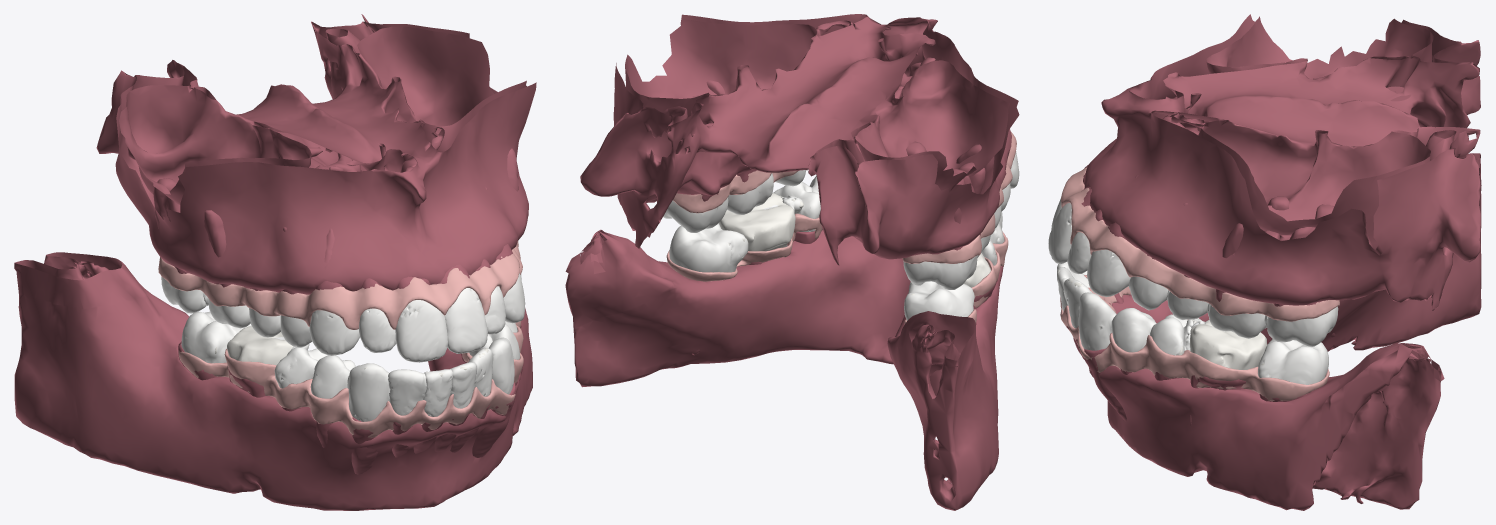
File: clinical_odontogram.glb
3 renders of one model, left to right at view 1: azimuth 30°, elevation 25°; view 2: azimuth 150°, elevation 25°; view 3: azimuth 270°, elevation 25°, orthographic. The views are drawn at different scales.
Visible parts, largest first — view 1: FMA53649, FMA52748, FMA59763, FMA59764, FMA55681-enamel, FMA55682-enamel, FMA55686-enamel, FMA55706-enamel, FMA55705, FMA55798-enamel, FMA57140-enamel, FMA55694-enamel (+16 smaller); view 2: FMA53649, FMA52748, FMA59763, FMA55703-enamel, FMA55704, FMA59764, FMA55706-enamel, FMA55697-enamel, FMA55700-enamel, FMA55692-enamel, FMA55698-lamina, FMA55699-enamel; view 3: FMA53649, FMA52748, FMA59763, FMA59764, FMA55703-enamel, FMA55704, FMA55687-enamel, FMA55700-enamel, FMA55799-enamel, FMA55693-enamel, FMA55692-enamel, FMA55699-enamel (+8 smaller).
Boxes of the visible parts, <box> form: FMA53649: <box>96,14,536,294</box>; FMA52748: <box>14,252,532,510</box>; FMA59763: <box>158,241,522,329</box>; FMA59764: <box>178,321,523,437</box>; FMA55681-enamel: <box>395,300,447,362</box>; FMA55682-enamel: <box>444,288,487,353</box>; FMA55686-enamel: <box>347,363,390,421</box>; FMA55706-enamel: <box>181,311,251,363</box>; FMA55705: <box>227,326,293,365</box>; FMA55798-enamel: <box>309,310,359,355</box>; FMA57140-enamel: <box>388,369,426,415</box>; FMA55694-enamel: <box>310,355,355,398</box>; FMA53649: <box>580,14,1019,265</box>; FMA52748: <box>565,229,1003,510</box>; FMA59763: <box>673,131,1016,263</box>; FMA55703-enamel: <box>669,223,748,272</box>; FMA55704: <box>719,193,795,251</box>; FMA59764: <box>666,213,1008,323</box>; FMA55706-enamel: <box>904,281,974,320</box>; FMA55697-enamel: <box>903,255,977,289</box>; FMA55700-enamel: <box>663,197,728,232</box>; FMA55692-enamel: <box>773,181,820,231</box>; FMA55698-lamina: <box>906,141,995,194</box>; FMA55699-enamel: <box>727,173,773,214</box>; FMA53649: <box>1084,14,1481,311</box>; FMA52748: <box>1073,153,1481,510</box>; FMA59763: <box>1061,167,1339,321</box>; FMA59764: <box>1060,275,1329,401</box>; FMA55703-enamel: <box>1257,338,1328,384</box>; FMA55704: <box>1190,320,1267,369</box>; FMA55687-enamel: <box>1078,292,1116,350</box>; FMA55700-enamel: <box>1267,306,1338,347</box>; FMA55799-enamel: <box>1087,249,1130,297</box>; FMA55693-enamel: <box>1111,308,1156,352</box>; FMA55692-enamel: <box>1150,314,1205,355</box>; FMA55699-enamel: <box>1208,304,1267,338</box>.
Bounding box in the file's own units: 81.96 × 61.53 × 73.66.
